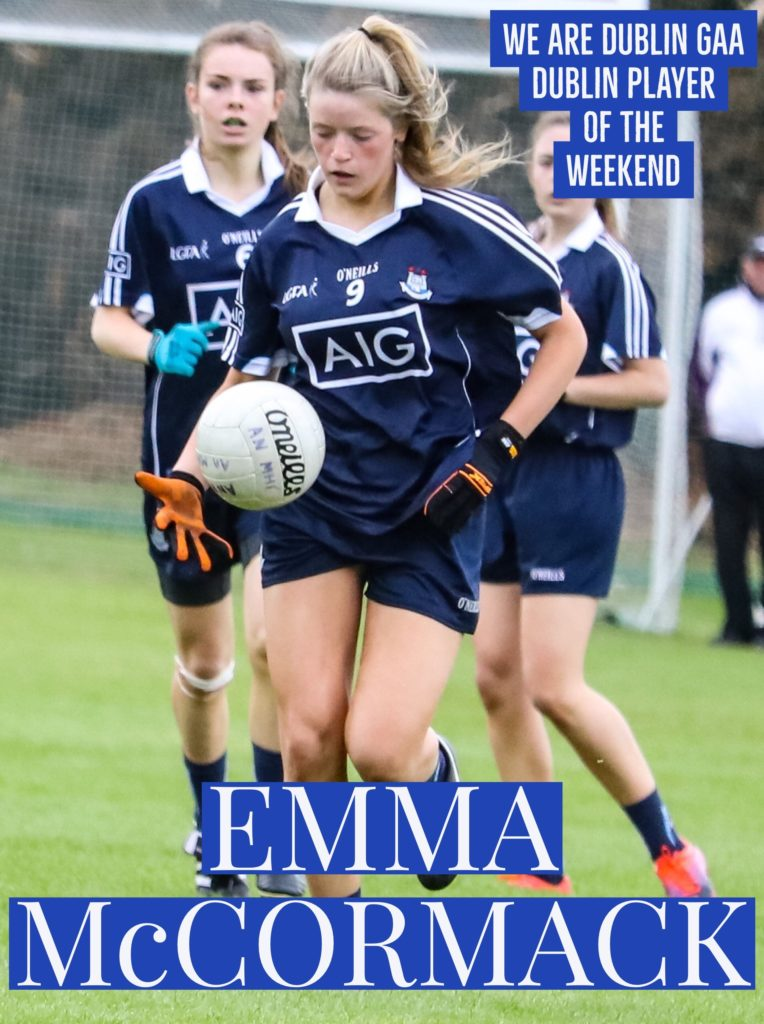ball: (202, 378, 321, 505)
player: (255, 18, 508, 825), (506, 98, 675, 859), (122, 18, 280, 776)
